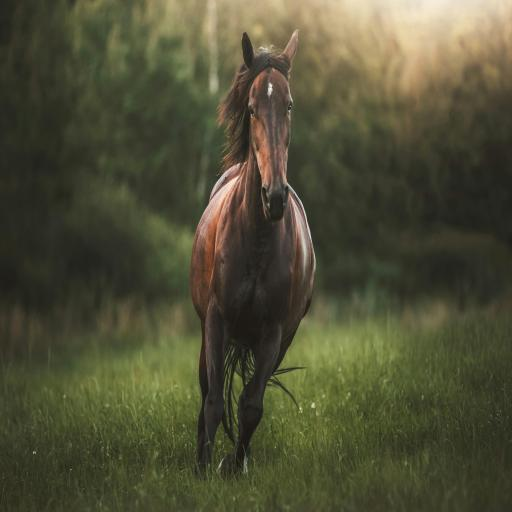horse: (187, 18, 320, 484)
